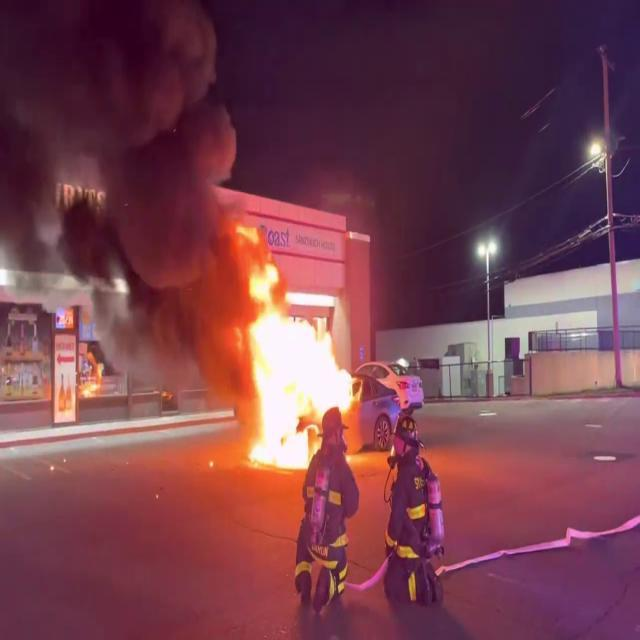Fire: (232, 251, 362, 468)
Smoke: (0, 0, 252, 382)
